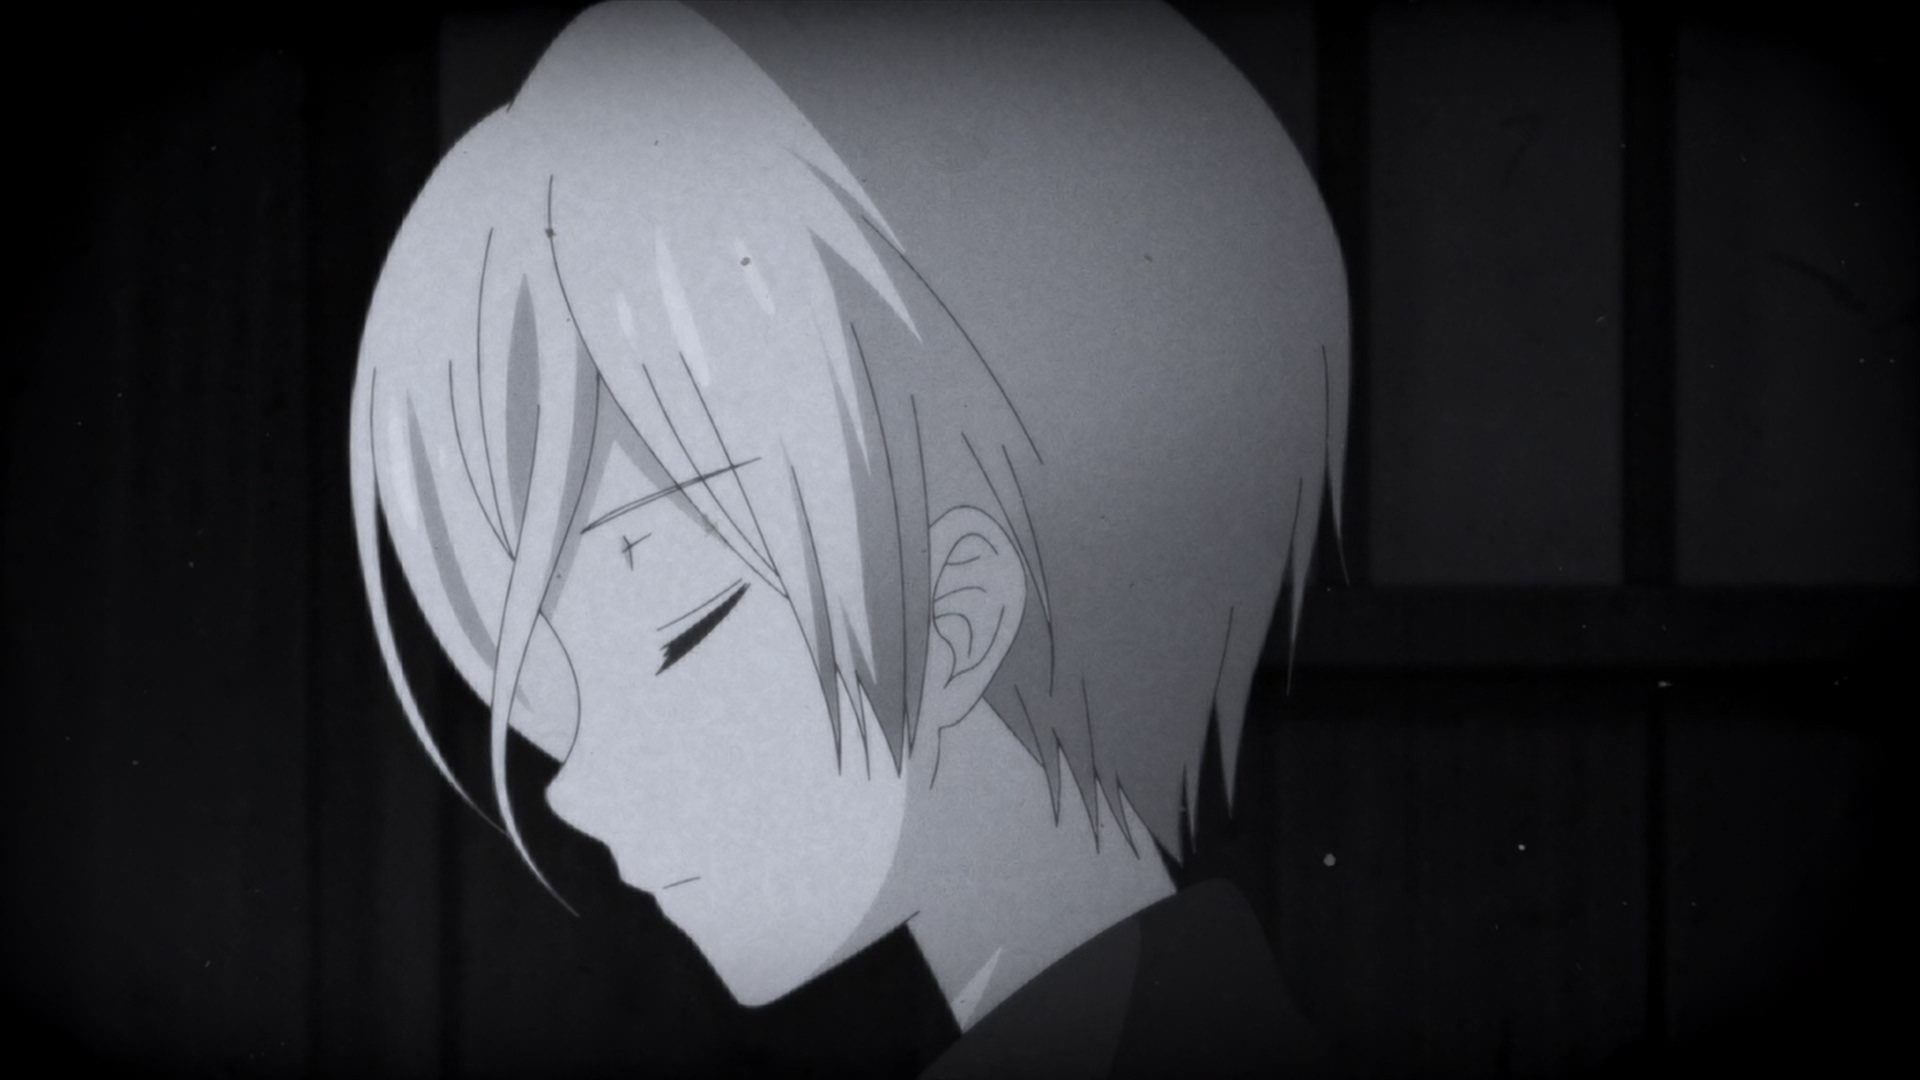八百比丘尼: (349, 1, 1354, 1080)
